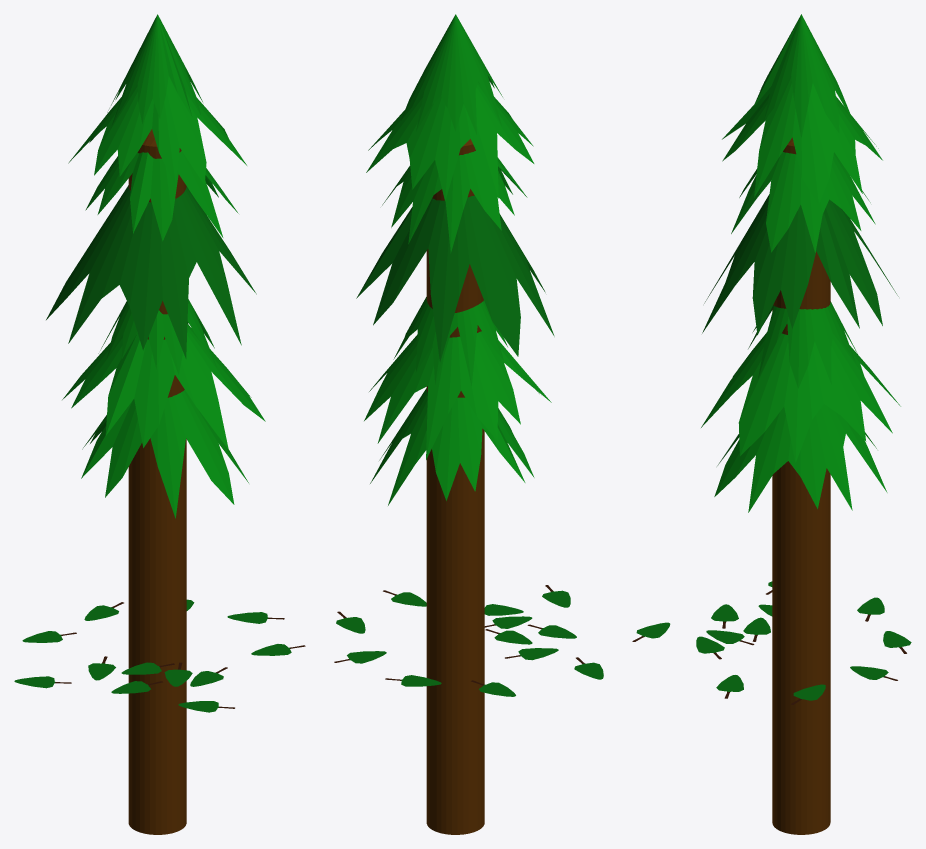
Rendered from treeState3.fbx.
The picture shows the model from 3 angles, left to right: view 1: azimuth 30°, elevation 25°; view 2: azimuth 150°, elevation 25°; view 3: azimuth 270°, elevation 25°; orthographic projection.
Visible parts, largest first — view 1: Cylinder.002, Cone.008, Cone.011, Cone.010, Cone.006, Cone.007, Cone.009, Cone.012; view 2: Cylinder.002, Cone.008, Cone.011, Cone.006, Cone.010, Cone.009, Cone.007, Cone.012; view 3: Cylinder.002, Cone.008, Cone.011, Cone.006, Cone.010, Cone.007, Cone.009, Cone.012.
Part boxes in pixels (<box>): Cylinder.002: <box>128,129,186,834</box>; Cone.008: <box>46,185,256,358</box>; Cone.011: <box>62,324,265,449</box>; Cone.010: <box>81,390,248,518</box>; Cone.006: <box>68,76,246,185</box>; Cone.007: <box>85,151,238,241</box>; Cone.009: <box>107,14,202,125</box>; Cone.012: <box>98,299,216,374</box>; Cylinder.002: <box>426,139,484,834</box>; Cone.008: <box>356,195,554,361</box>; Cone.011: <box>364,331,551,459</box>; Cone.006: <box>366,81,534,201</box>; Cone.010: <box>370,388,534,505</box>; Cone.009: <box>401,14,502,134</box>; Cone.007: <box>382,151,527,253</box>; Cone.012: <box>393,297,507,385</box>; Cylinder.002: <box>772,137,830,834</box>; Cone.008: <box>702,194,898,335</box>; Cone.011: <box>701,332,900,462</box>; Cone.006: <box>722,76,882,204</box>; Cone.010: <box>714,404,887,512</box>; Cone.007: <box>731,152,875,252</box>; Cone.009: <box>753,14,853,138</box>; Cone.012: <box>748,301,857,388</box>.
Size of the model in its own units: 66.23 by 191 by 59.83.
